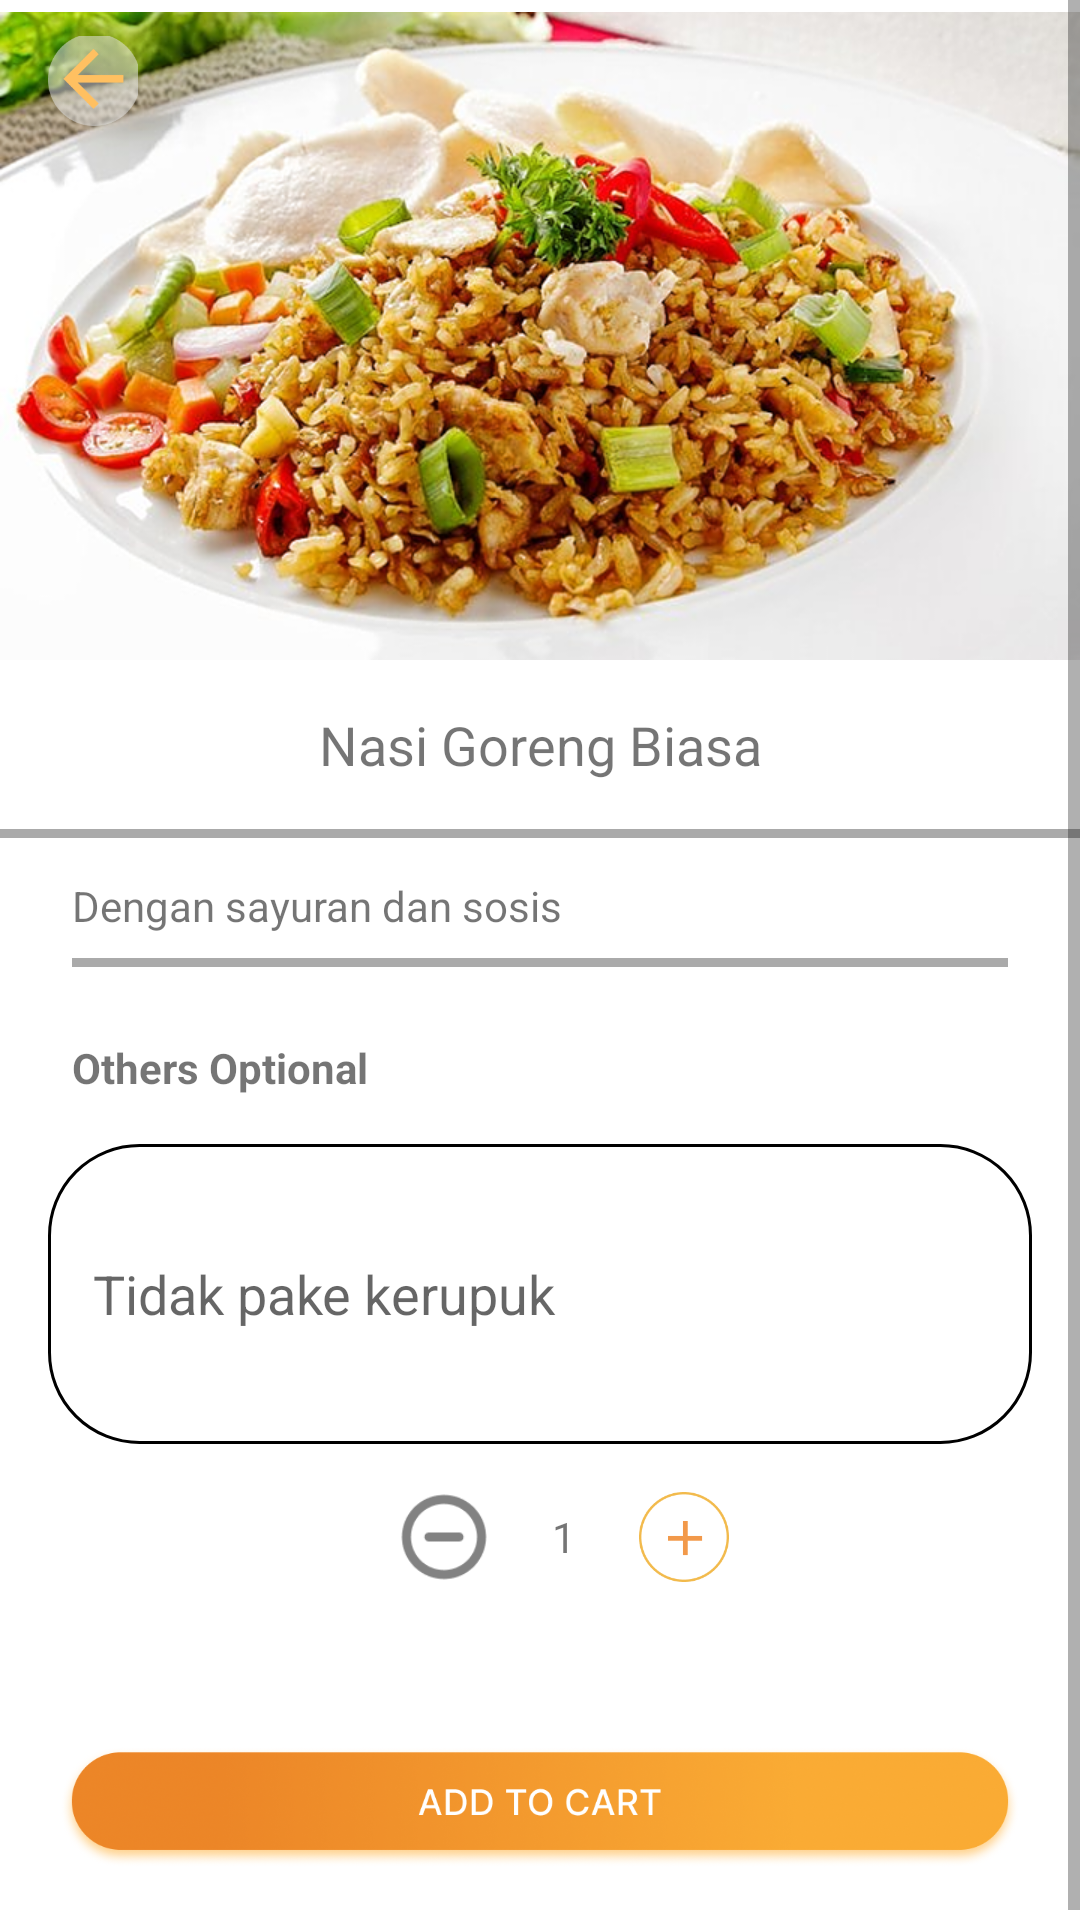

Icons on this 1080px×1920px Android screen, each with the point to tap as (x=x, y=y):
arrow back: (x=93, y=81)
minus: (x=444, y=1537)
plus: (x=684, y=1537)
